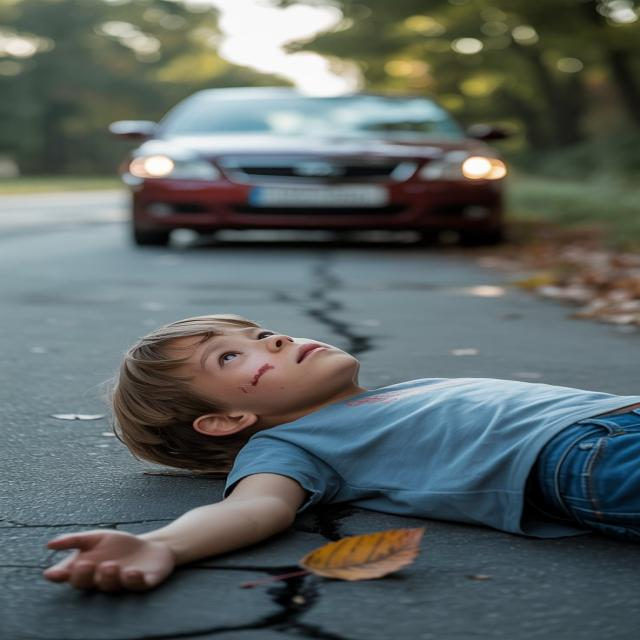injury: (141, 316, 368, 457), (250, 363, 274, 386)
